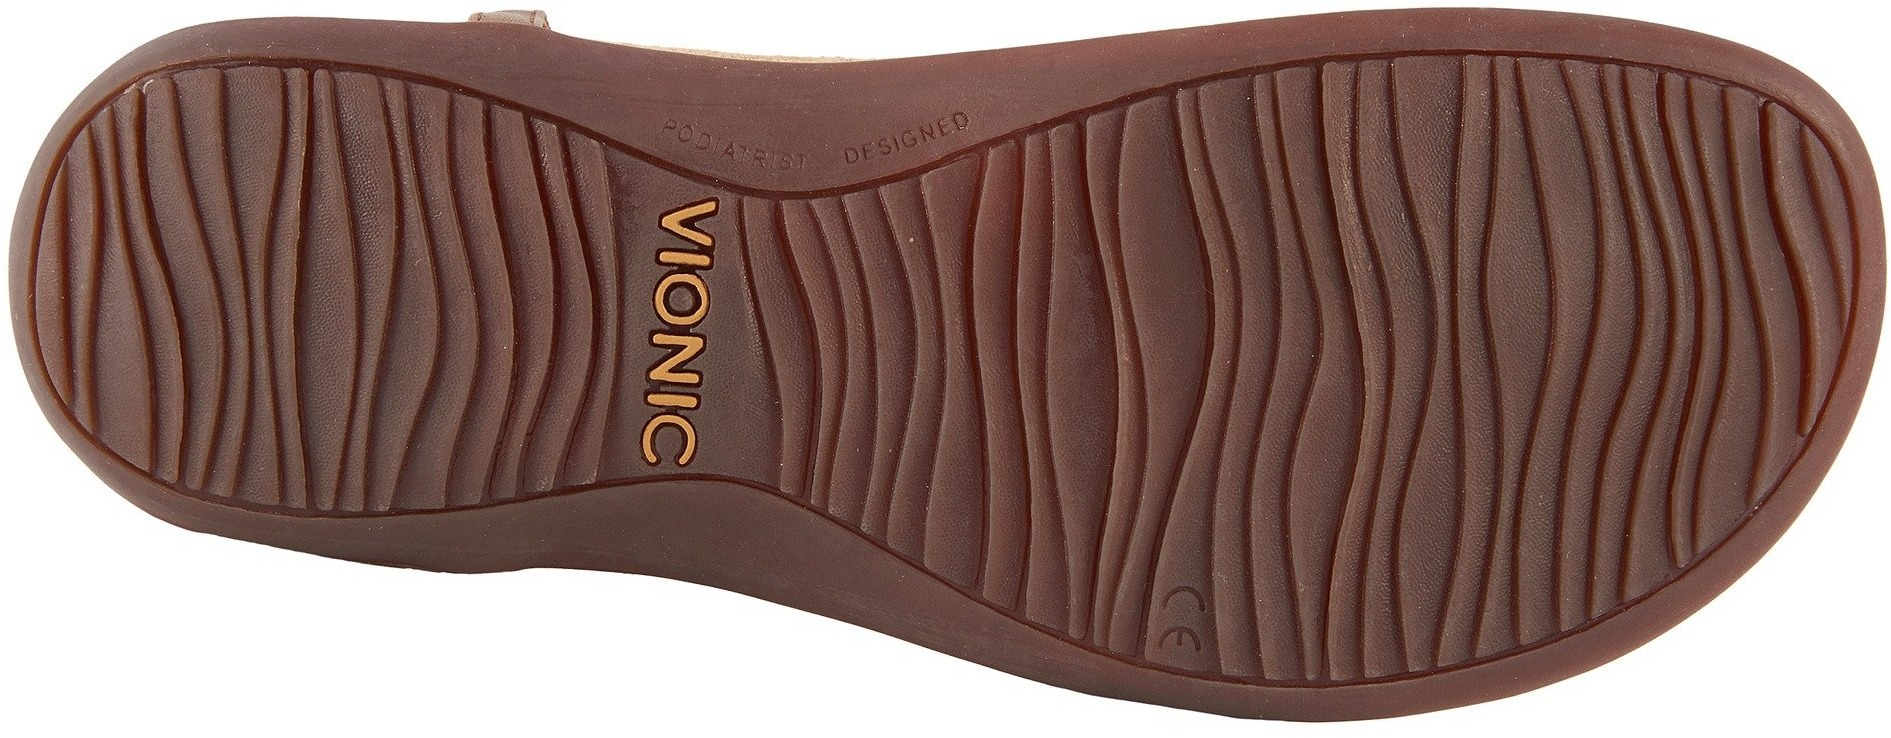text: (626, 191, 737, 301), (630, 324, 740, 418), (665, 101, 737, 180), (1149, 587, 1214, 664), (827, 117, 907, 176)
